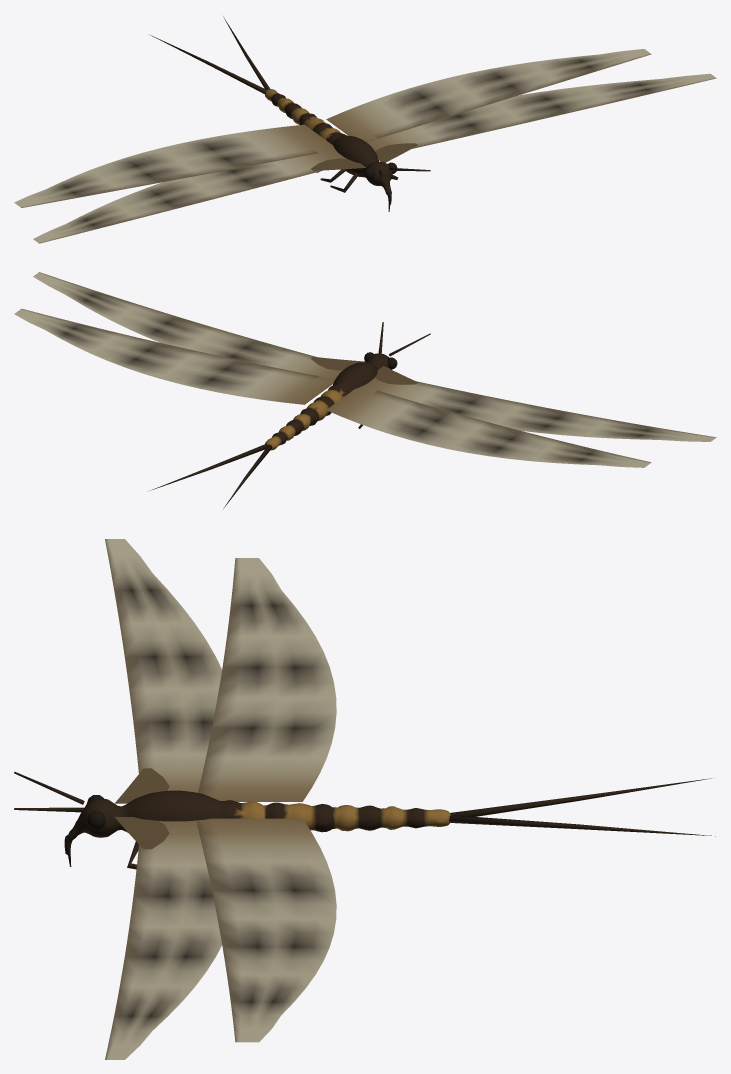
Rendered from Stenodictya.fbx.
The picture shows the model from 3 angles, top to bottom: view 1: azimuth 30°, elevation 25°; view 2: azimuth 150°, elevation 25°; view 3: azimuth 270°, elevation 25°; orthographic projection. The views are drawn at different scales.
Visible parts, largest first — view 1: Stenodictya; view 2: Stenodictya; view 3: Stenodictya.
Boxes of the visible parts, bbox=[...] form: Stenodictya: bbox=[14, 16, 716, 243]; Stenodictya: bbox=[14, 272, 716, 508]; Stenodictya: bbox=[14, 539, 715, 1059].
Bounding box in the file's own units: 2 × 0.138 × 1.14.
